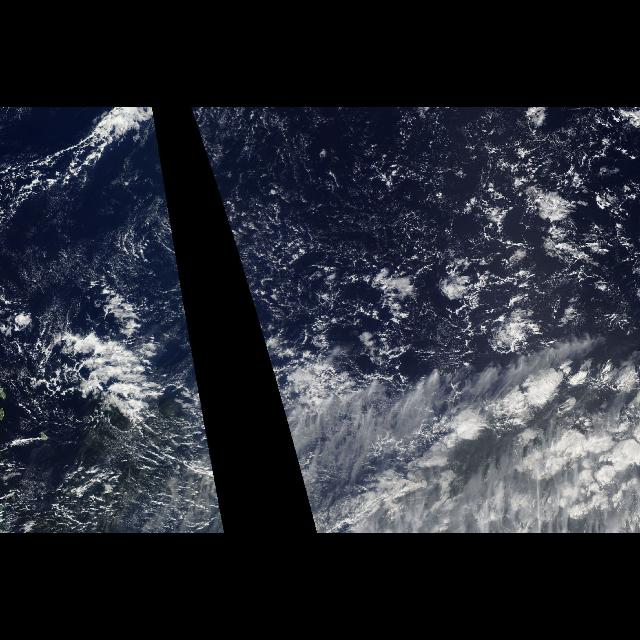Gravel: (222, 208, 540, 348)
Sugar: (192, 112, 388, 202)
